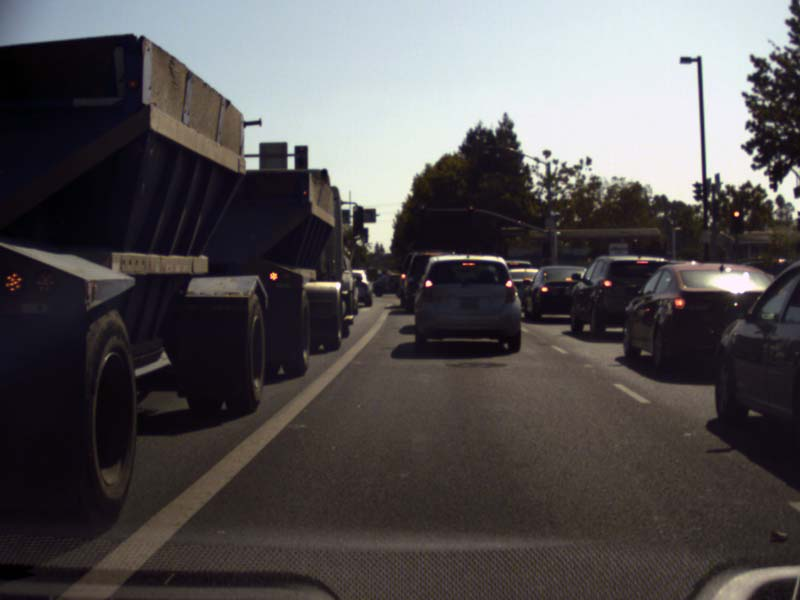Red: (418, 203, 425, 219), (468, 204, 473, 218)
Yellow: (730, 206, 742, 232)
